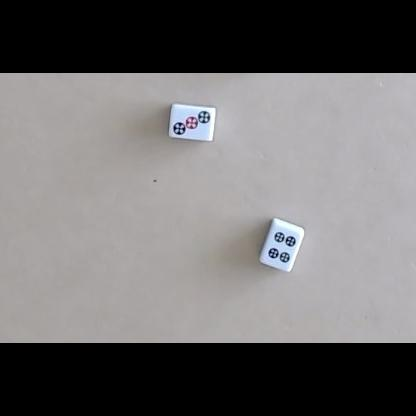3p: (173, 110, 211, 135)
4p: (268, 232, 296, 263)
